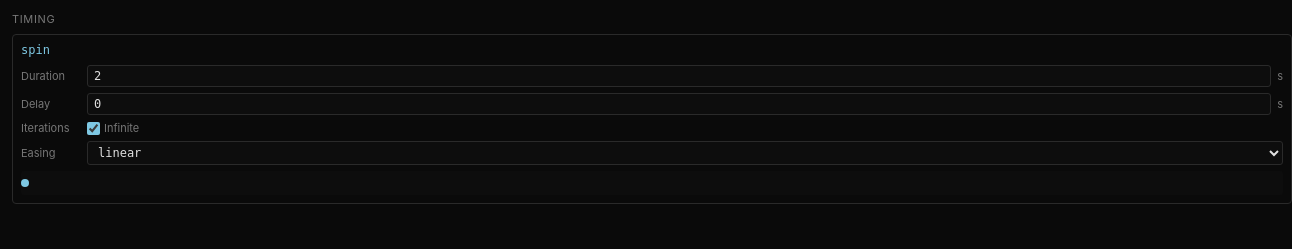
Scenario: TimingControls › shows custom input when Custom is selected
The width and height of the screenshot is (1292, 249).
Select "Custom..." in the dropdown with test id "timing-easing-0" at coordinates (685, 153), box [87,141,1283,165]
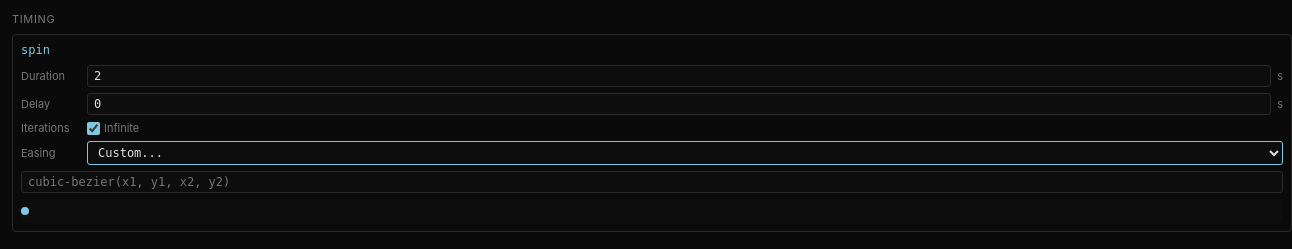
Check: the field with test id "timing-easing-custom-0" is shown, box [21,171,1283,193]
